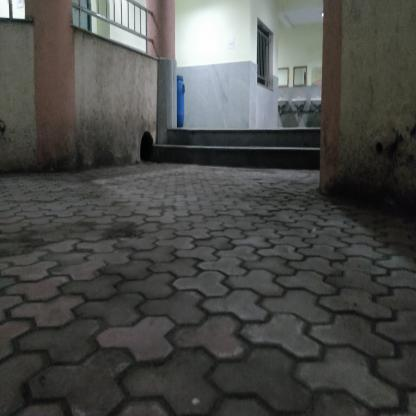stairs: (179, 126, 318, 172)
